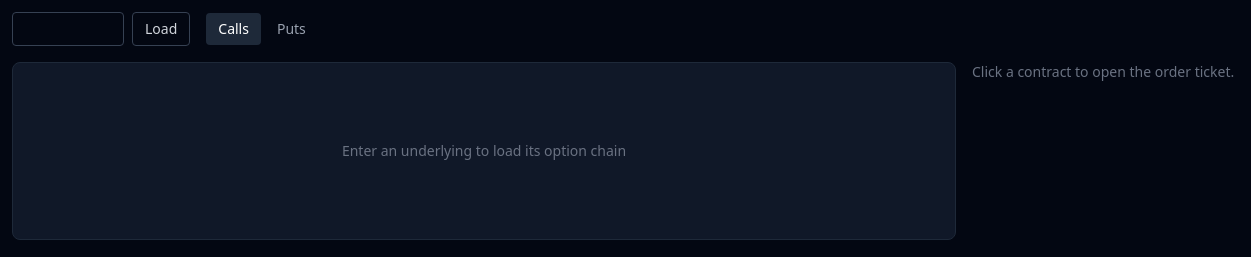
Test: surfaces chain fetch errors instead of claiming no contracts
Type "spy" into the field named "underlying" at [68, 29], box [12,12,124,46]
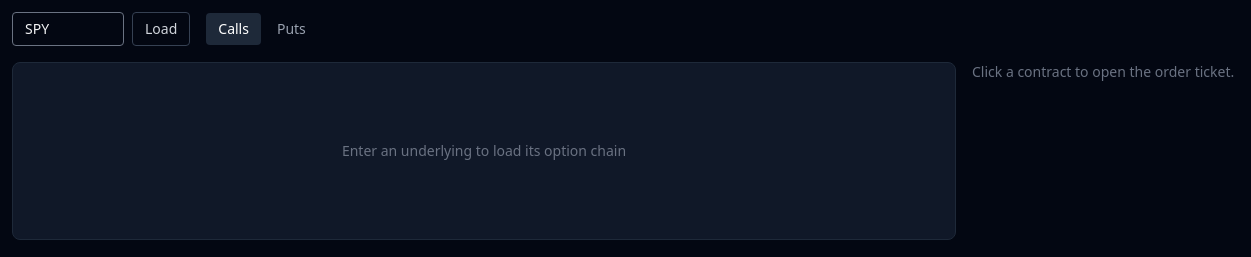
Click the button "Load" at [161, 29], box [132,12,190,46]
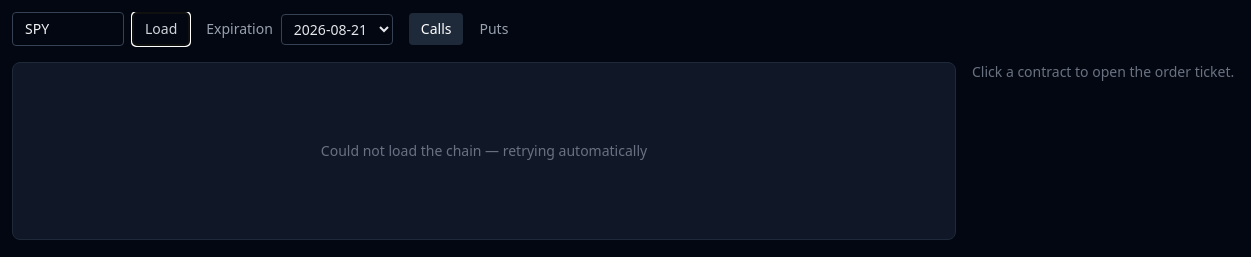
Check: the text "Could not load the chain — retrying automatically" is shown, box [321,141,647,160]
